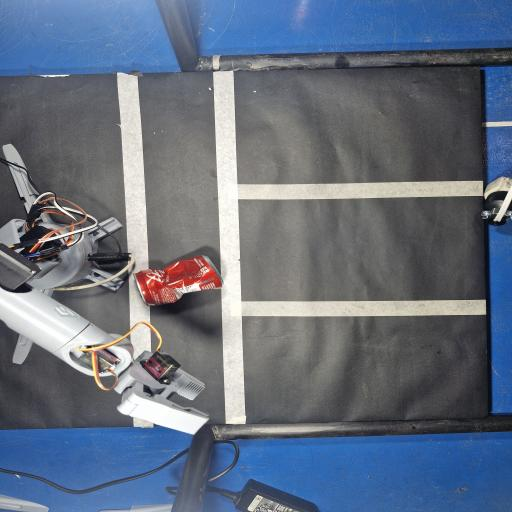lata_defectuoso: (135, 255, 222, 306)
